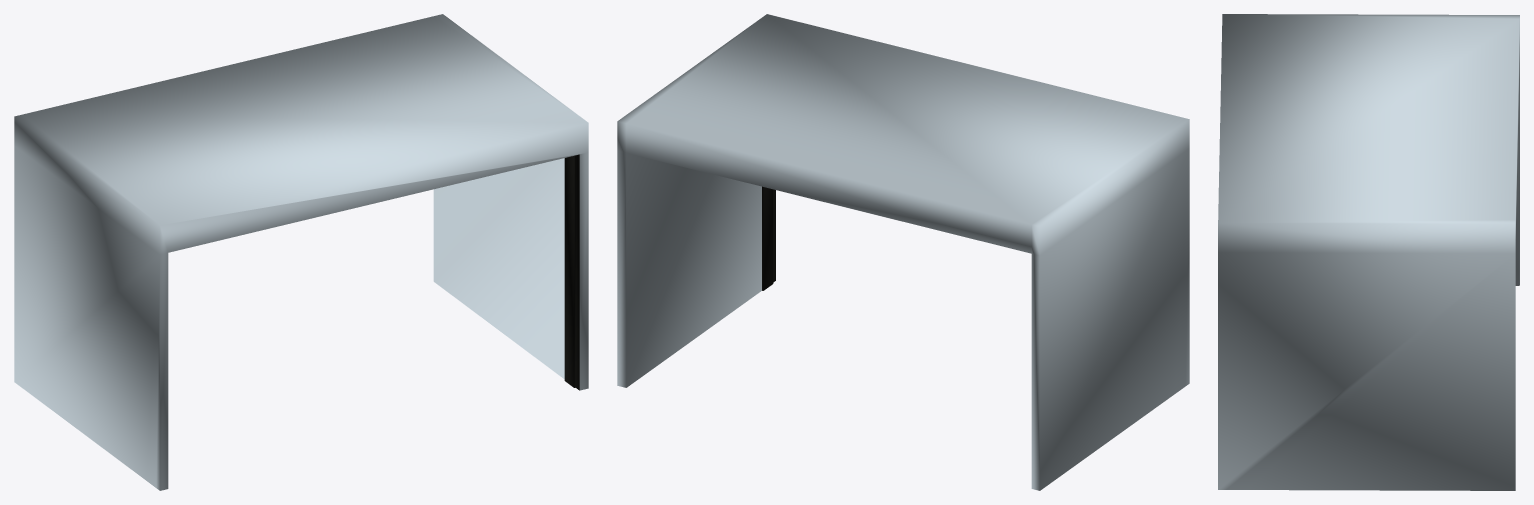
File: balcao da sala de audio - pamela.fbx
The picture shows the model from 3 angles, left to right: view 1: azimuth 30°, elevation 25°; view 2: azimuth 150°, elevation 25°; view 3: azimuth 270°, elevation 25°; orthographic projection.
Visible parts, largest first — view 1: Cube; view 2: Cube; view 3: Cube.
Boxes of the visible parts, box(x1,y1,x2,y2) form: Cube: box(14, 14, 588, 490); Cube: box(617, 14, 1189, 490); Cube: box(1218, 14, 1519, 490).
Size of the model in its own units: 4.56 by 2.7 by 2.76.
